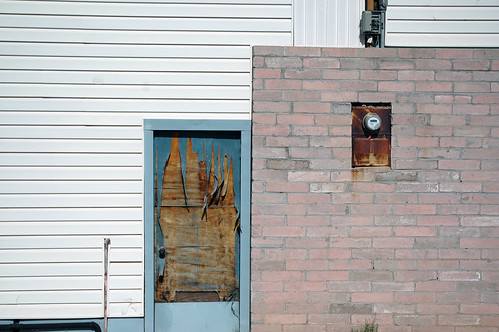door: (150, 128, 238, 329)
